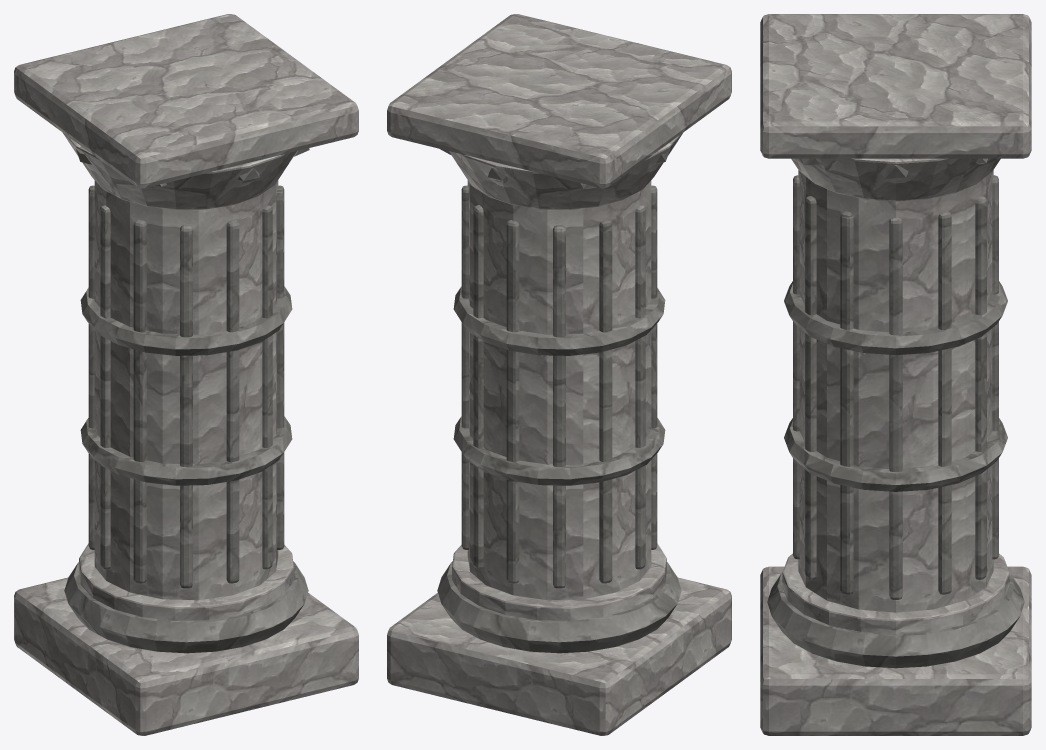
Rendered from column__plank_root.glb.
The picture shows the model from 3 angles, left to right: view 1: azimuth 30°, elevation 25°; view 2: azimuth 150°, elevation 25°; view 3: azimuth 270°, elevation 25°; orthographic projection. The views are drawn at different scales.
Parts seen in each view (by area): view 1: model; view 2: model; view 3: model.
Boxes of the visible parts, bbox=[...] form: model: bbox=[14, 14, 358, 735]; model: bbox=[387, 14, 731, 735]; model: bbox=[760, 14, 1031, 735].
Bounding box in the file's own units: 0.8 × 2 × 0.8.
Materials: 2 (2 with a texture image).
